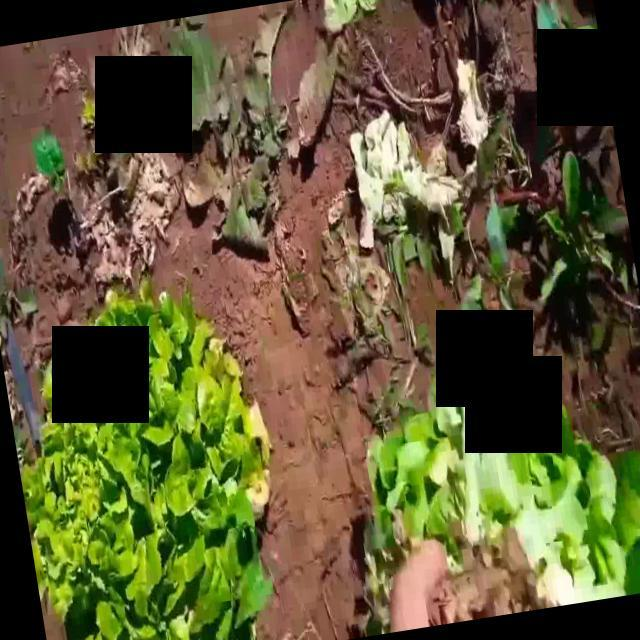Lettuce: (21, 290, 270, 640), (358, 406, 640, 606)
